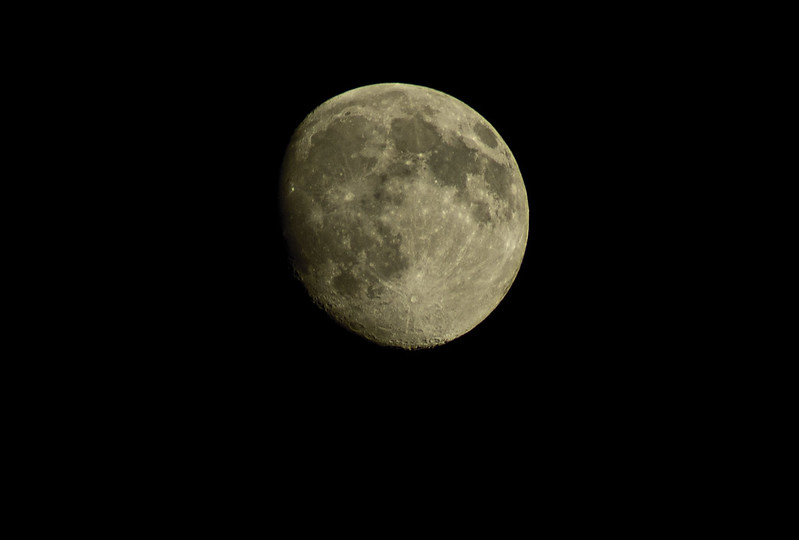crater: (396, 279, 434, 320), (332, 179, 369, 208), (456, 131, 482, 160), (409, 209, 433, 234), (346, 315, 375, 331), (287, 179, 302, 203), (474, 216, 489, 237), (429, 174, 441, 193), (341, 107, 356, 120)
